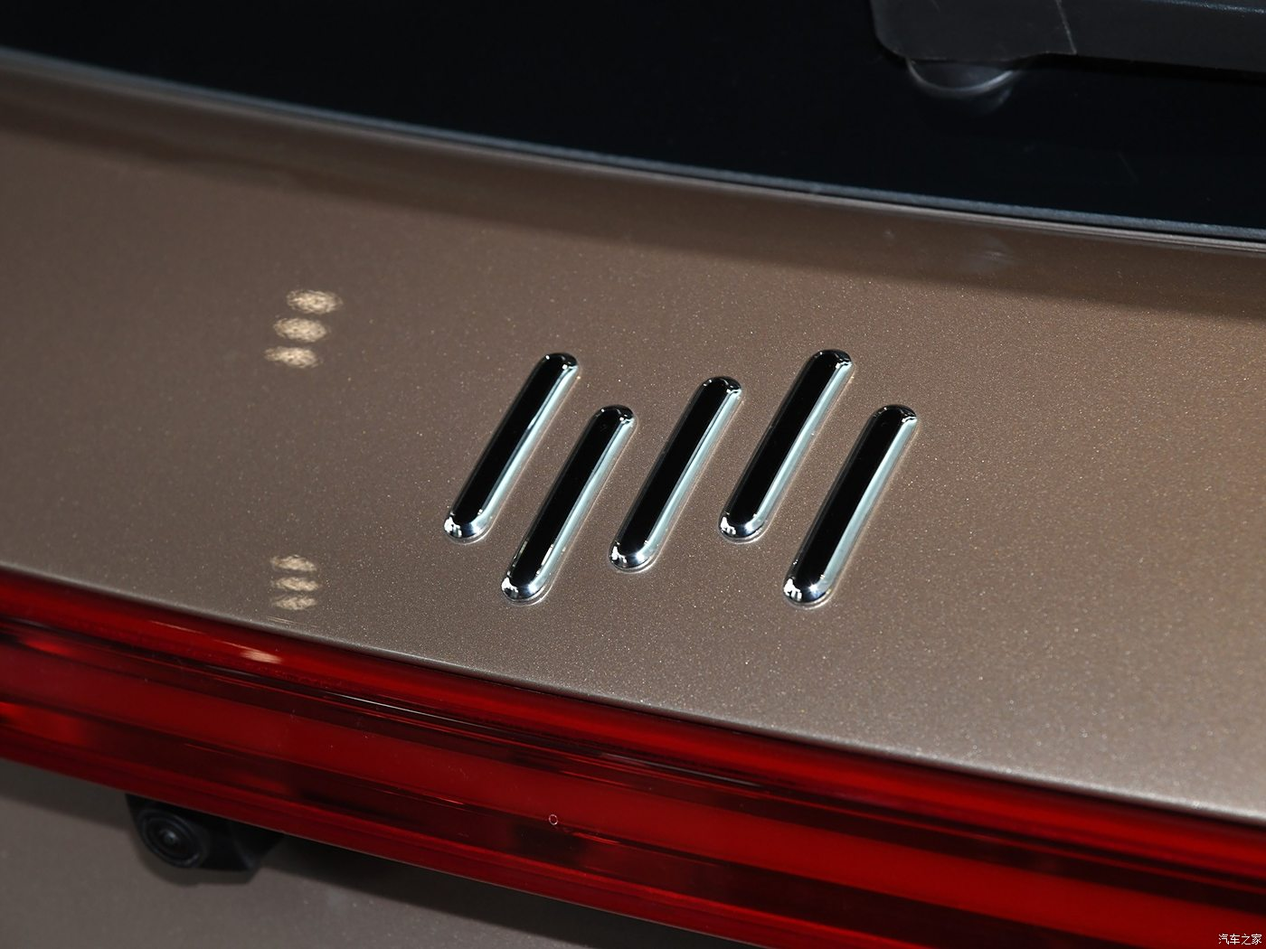WELTMEISTER: (444, 350, 915, 607)
